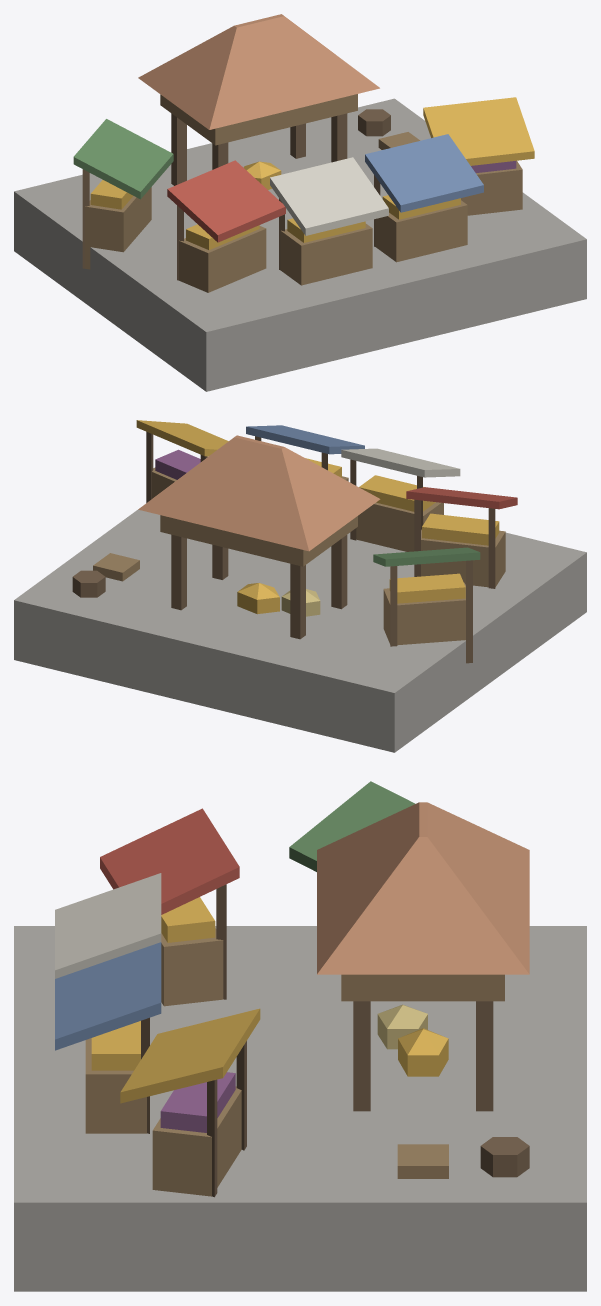
The model's file is market.glb.
3 renders of one model, top to bottom at view 1: azimuth 30°, elevation 25°; view 2: azimuth 150°, elevation 25°; view 3: azimuth 270°, elevation 25°, orthographic. The views are drawn at different scales.
Visible parts, largest first — view 1: LOD0; view 2: LOD0; view 3: LOD0.
Boxes of the visible parts, x1,y1,x2,y2 form: LOD0: (14, 14, 586, 391); LOD0: (14, 420, 586, 752); LOD0: (14, 781, 586, 1291).
Size of what is drawn, in the model's own units: 0.331 by 0.18 by 0.28.
